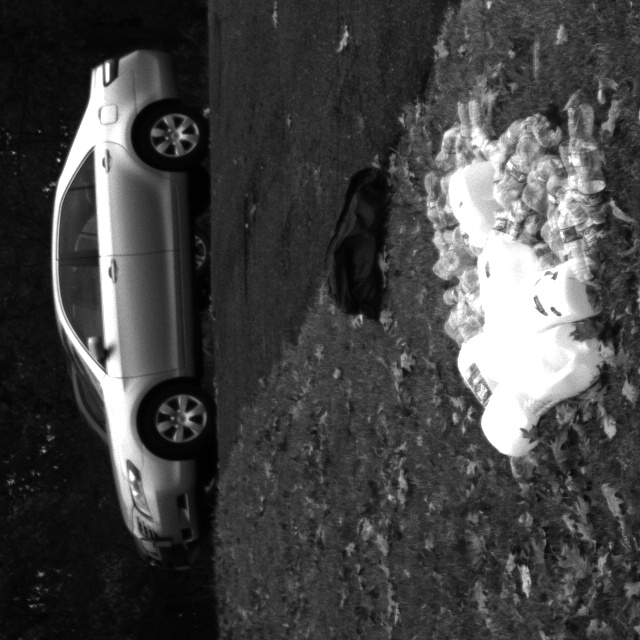bottle: (548, 75, 614, 212), (510, 101, 580, 189), (549, 184, 606, 286), (411, 163, 443, 238), (428, 246, 468, 294), (446, 97, 470, 165)
can: (440, 325, 549, 430), (469, 370, 574, 464), (516, 322, 616, 410), (493, 260, 612, 324), (436, 165, 507, 234)
